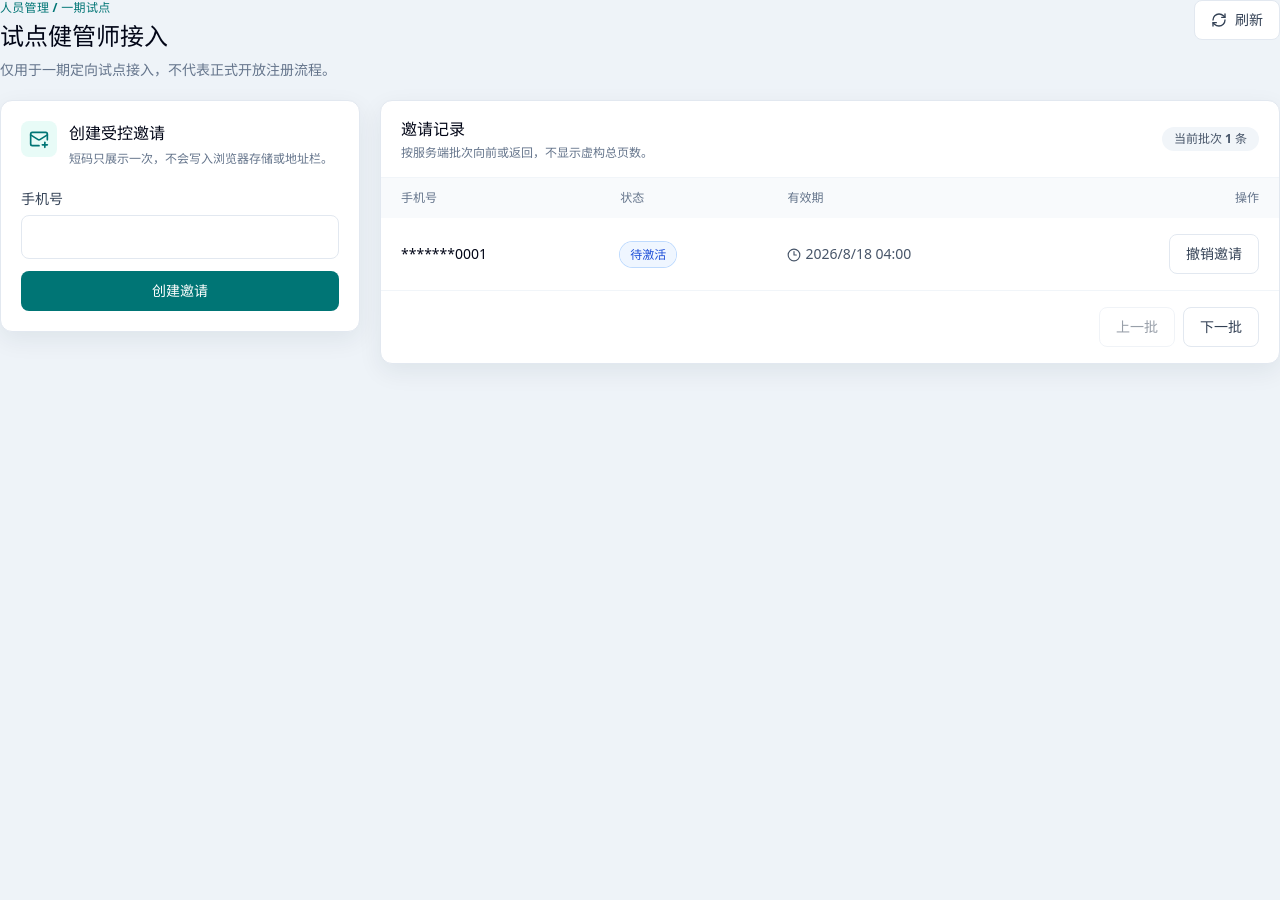
it: 健管师邀请与资格 › 创建邀请后关闭短码且不把短码放入URL或持久缓存
The image size is (1280, 900).
expect the heading "试点健管师接入" is shown: met, box [0,19,168,52]
expect the text "仅用于一期定向试点接入，不代表正式开放注册流程。" is shown: met, box [0,60,336,80]
Type "13800000001" into the field labelled "手机号" at (180, 237), box [21,215,339,259]
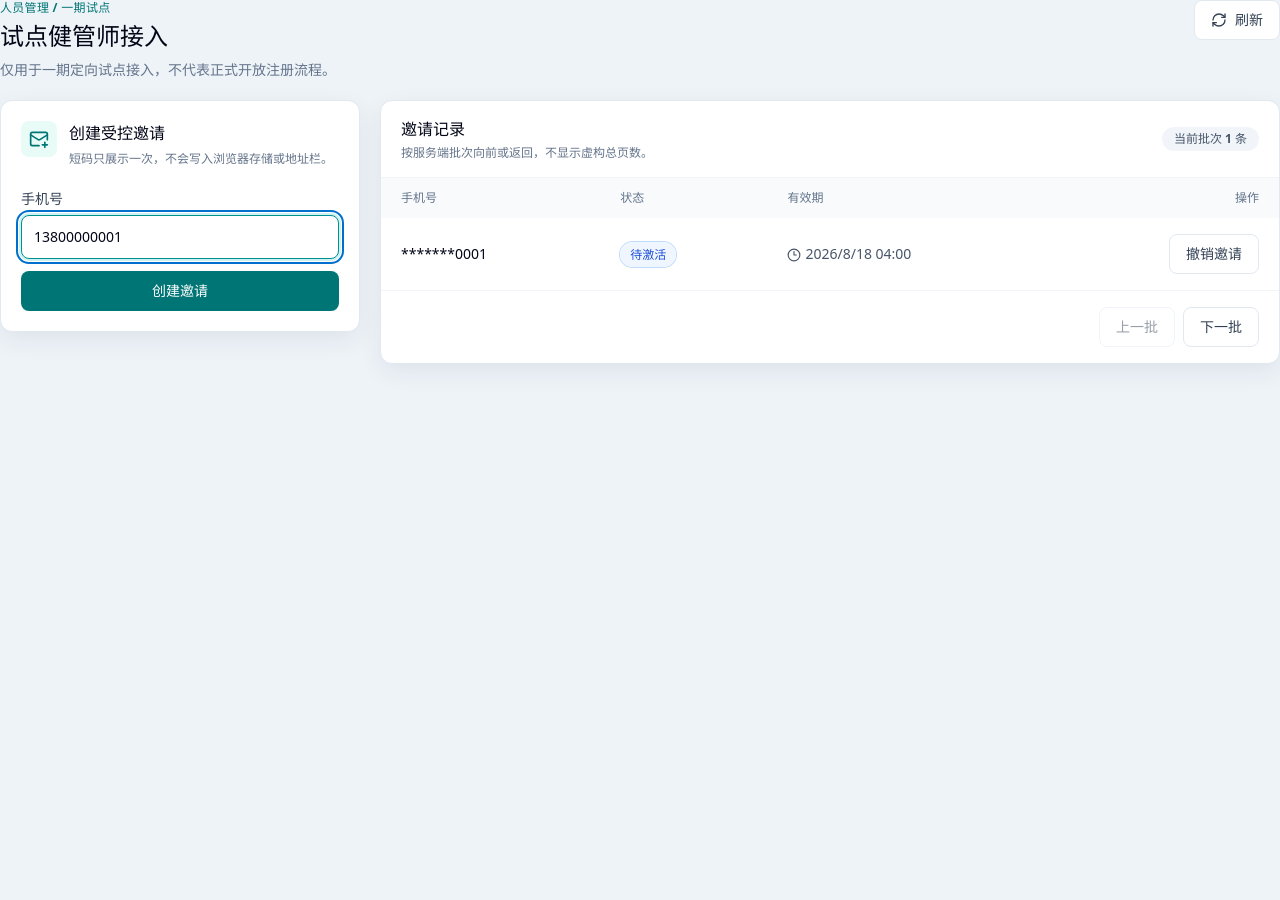
Click the button "创建邀请" at (180, 291), box [21,271,339,311]
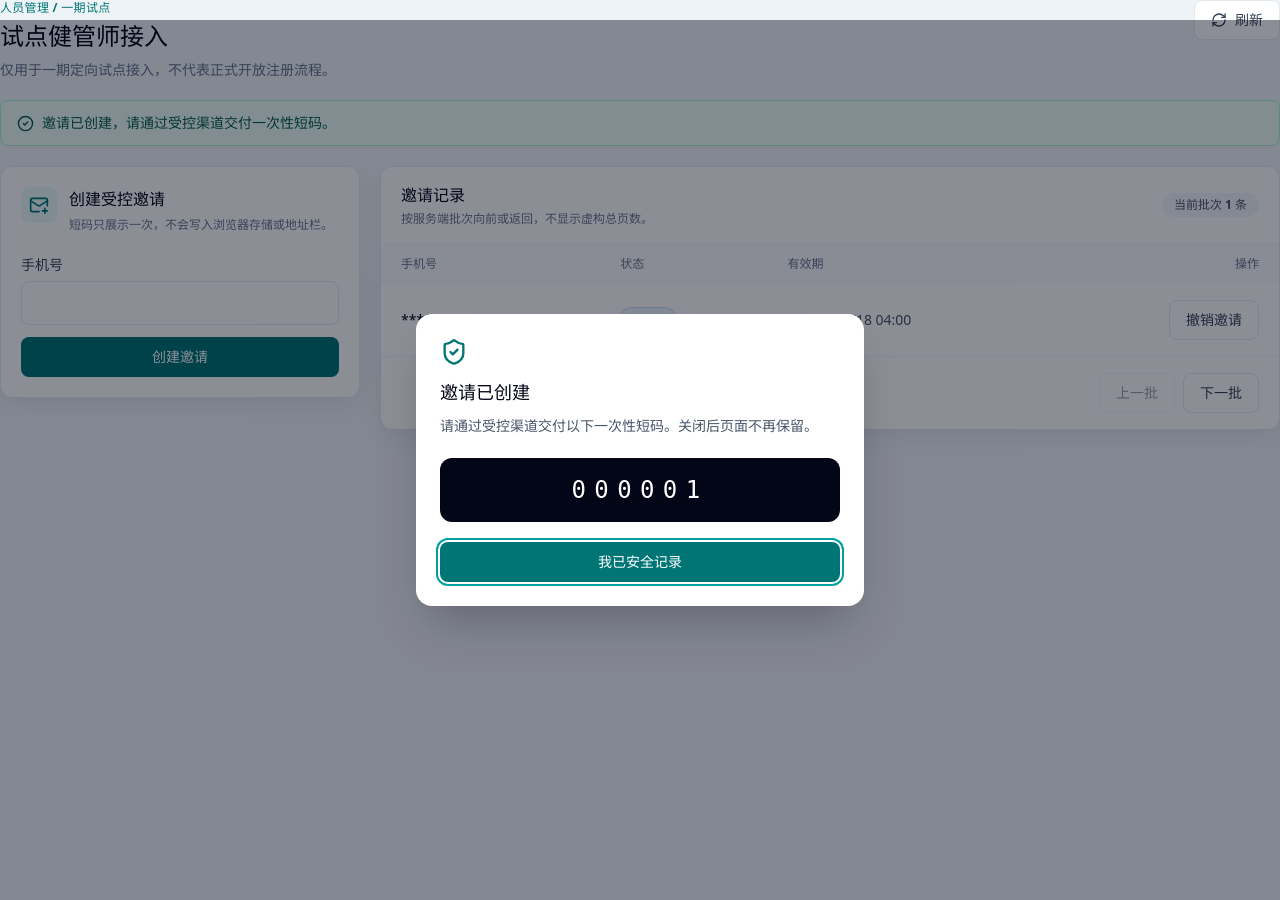
expect the dialog "邀请已创建" shows "000001": met, box [571,476,708,504]
Click the button "我已安全记录" at (640, 562), box [440,542,840,582]
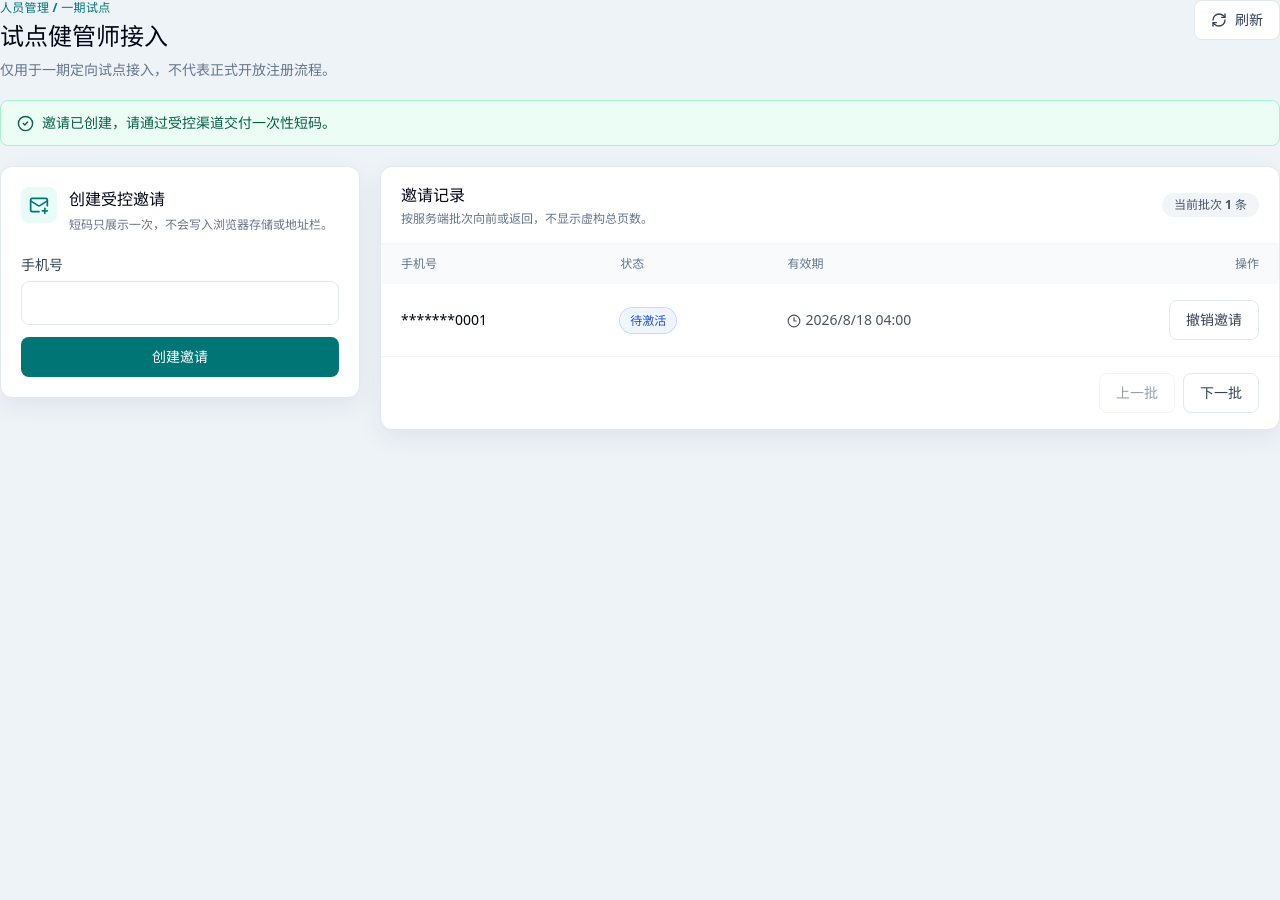
expect the text "000001" is gone: met
